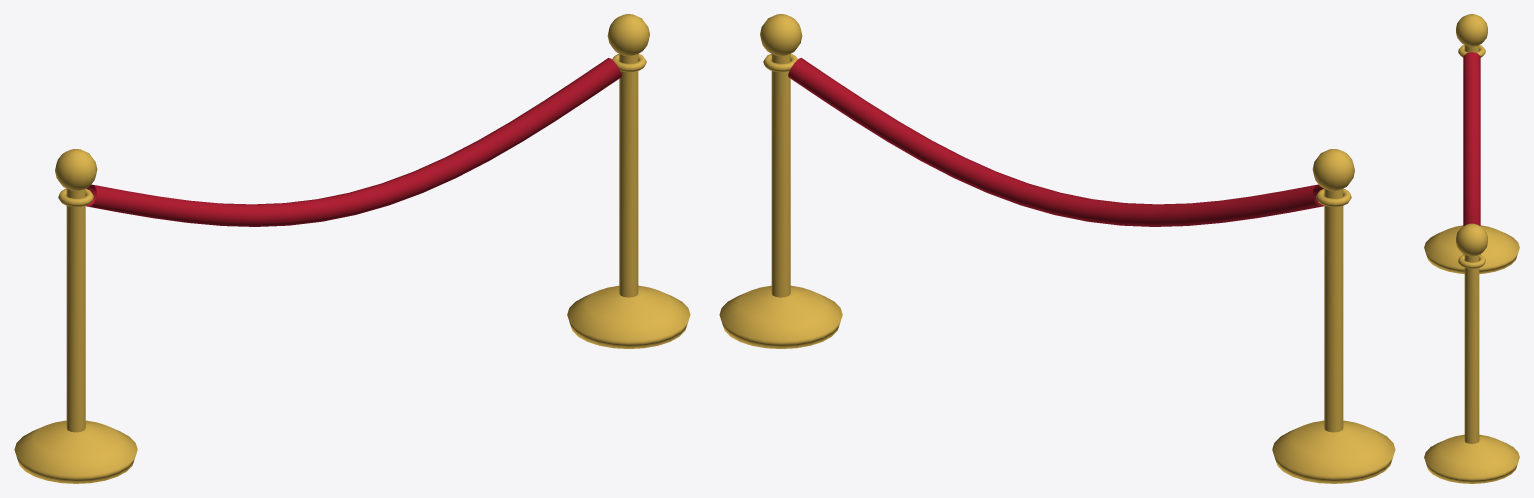
Rendered from SlaparazziRope.obj.
3 renders of one model, left to right at view 1: azimuth 30°, elevation 25°; view 2: azimuth 150°, elevation 25°; view 3: azimuth 270°, elevation 25°, orthographic. The views are drawn at different scales.
Parts seen in each view (by area): view 1: Brass, Rope; view 2: Brass, Rope; view 3: Brass, Rope.
Boxes of the visible parts, box(x1,y1,x2,y2) form: Brass: box(14, 14, 690, 483); Rope: box(86, 58, 621, 226); Brass: box(719, 14, 1395, 483); Rope: box(788, 58, 1323, 226); Brass: box(1424, 14, 1519, 483); Rope: box(1463, 52, 1480, 254).
Bounding box in the file's own units: 7.16 × 3.2 × 1.16.
